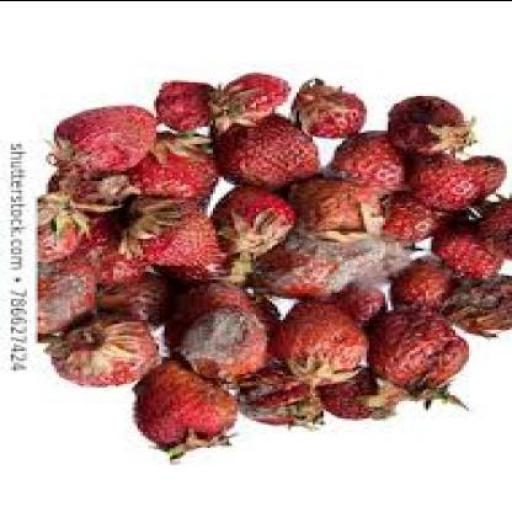biodegradable: (164, 278, 282, 379), (134, 355, 240, 460), (374, 304, 472, 406), (54, 309, 164, 383), (280, 296, 372, 380), (221, 112, 323, 182), (57, 104, 165, 168), (124, 128, 223, 197), (122, 193, 218, 262), (291, 174, 388, 238), (167, 218, 261, 284), (76, 206, 148, 292), (256, 238, 362, 296), (219, 182, 302, 256), (40, 188, 126, 259), (334, 127, 416, 194), (437, 200, 503, 278), (391, 93, 479, 151), (43, 244, 100, 332), (242, 366, 328, 424), (213, 71, 294, 128), (380, 190, 469, 241), (97, 269, 181, 321), (407, 149, 479, 207), (326, 369, 410, 417), (300, 74, 366, 135), (391, 253, 461, 307), (453, 270, 511, 334), (54, 166, 134, 207), (157, 76, 221, 127), (356, 239, 420, 279), (339, 278, 391, 319), (482, 188, 511, 258), (469, 155, 509, 197)
